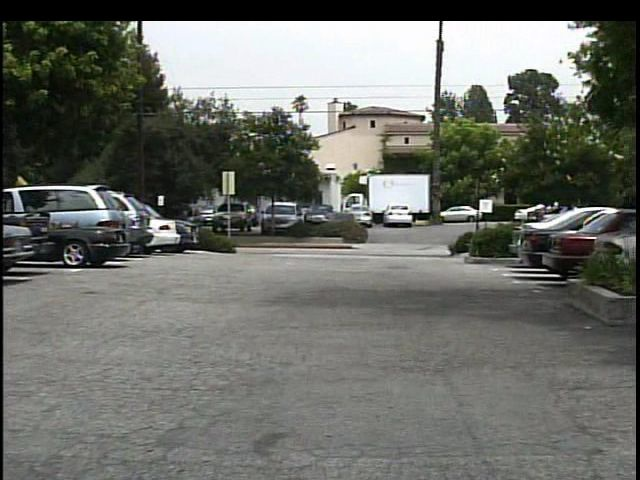person: (175, 205, 195, 243)
